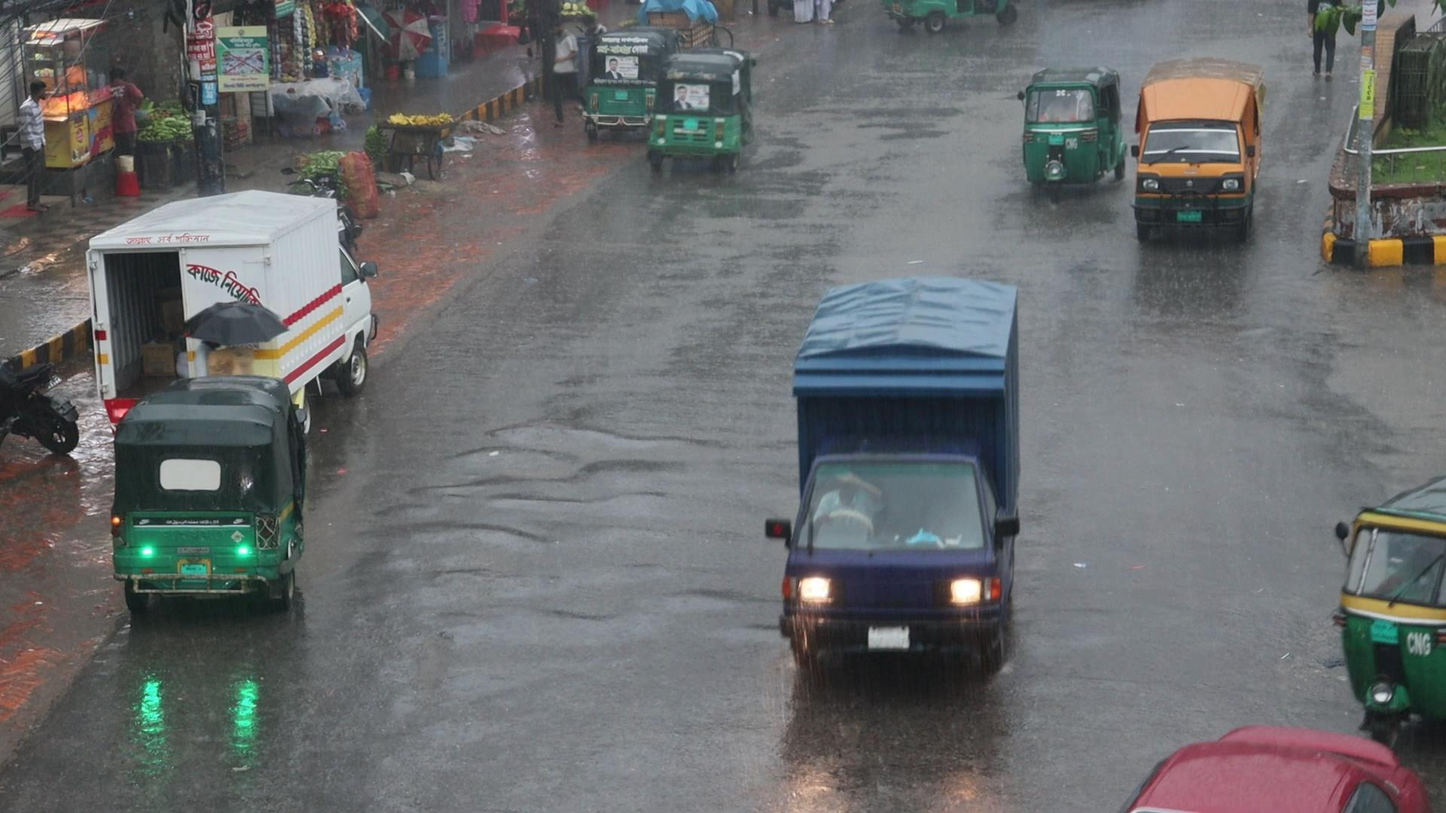Truck: (763, 270, 1028, 687), (1130, 52, 1269, 243)
